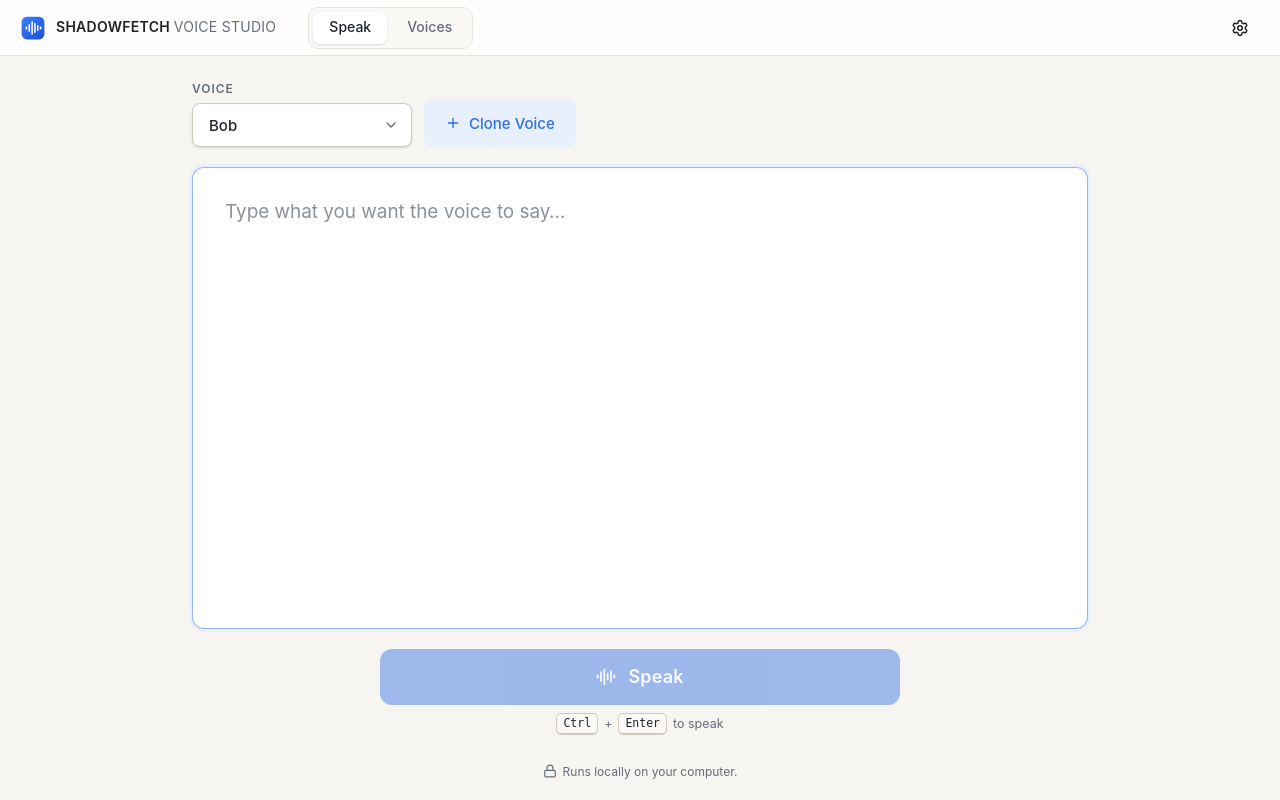
Clone Voice › offers two plain choices
Check: the text box named "Text to speak" is shown, box left=193, top=168, right=1087, bottom=600
Click the button "Clone Voice" at [500, 123], box left=424, top=99, right=576, bottom=147
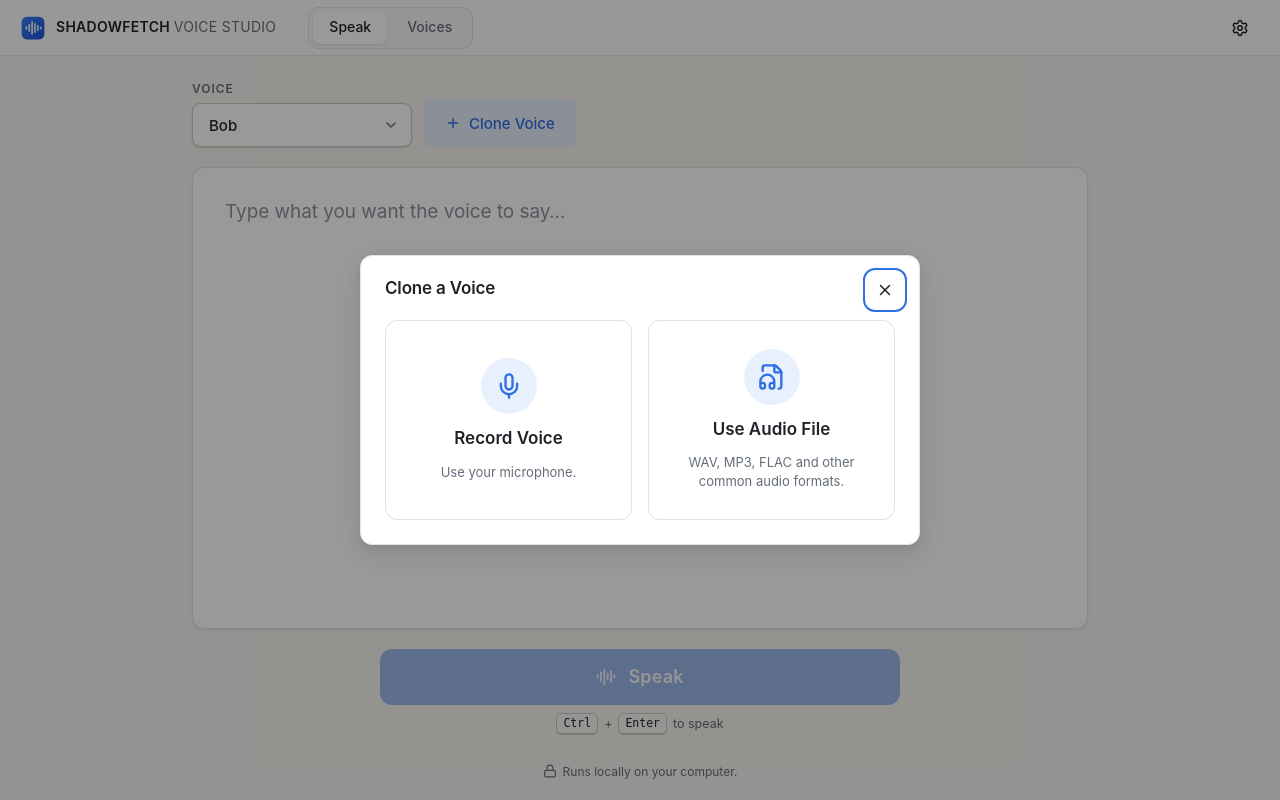
Check: the button "Record Voice Use your microphone." is shown, box left=385, top=320, right=632, bottom=520
Check: the button that starts with "Use Audio File" is shown, box left=648, top=320, right=895, bottom=520
